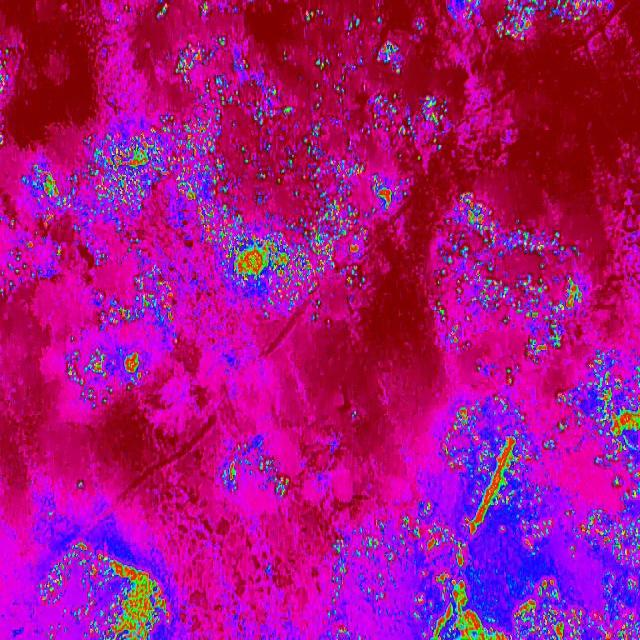fire: (420, 397, 549, 640), (430, 198, 584, 362), (20, 129, 160, 251), (586, 345, 640, 640), (34, 535, 170, 640), (298, 151, 407, 275), (154, 103, 230, 264), (330, 514, 420, 640), (175, 38, 298, 128), (215, 228, 320, 312), (91, 269, 178, 339), (550, 489, 586, 640), (218, 438, 302, 502), (63, 352, 148, 406), (368, 90, 452, 142), (552, 0, 609, 29), (494, 0, 540, 35), (368, 40, 400, 72)
